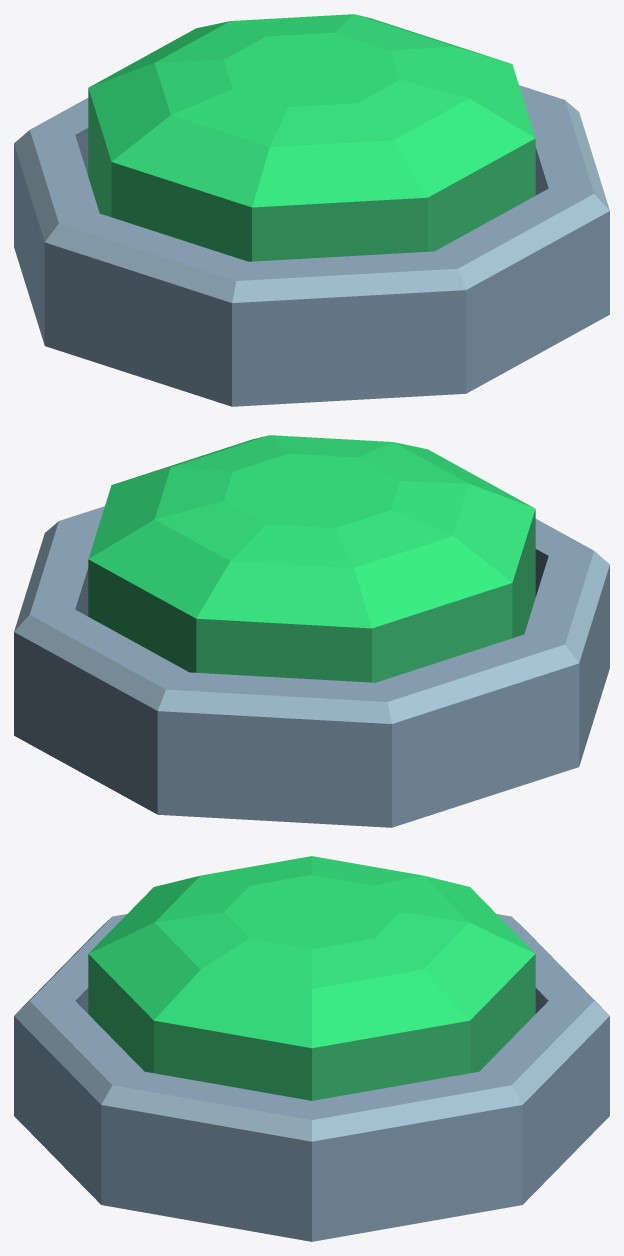
The model's file is greenbutton.glb.
3 views of the same model, one above another, from view 1: azimuth 30°, elevation 25°; view 2: azimuth 150°, elevation 25°; view 3: azimuth 270°, elevation 25° (orthographic). The views are drawn at different scales.
Visible parts, largest first — view 1: Base_Button, Button; view 2: Base_Button, Button; view 3: Base_Button, Button.
Boxes of the visible parts, x1=… form: Base_Button: x1=14, y1=85, x2=609, y2=406; Button: x1=88, y1=14, x2=535, y2=261; Base_Button: x1=14, y1=506, x2=609, y2=827; Button: x1=88, y1=435, x2=535, y2=682; Base_Button: x1=14, y1=914, x2=609, y2=1241; Button: x1=88, y1=856, x2=535, y2=1100.
Size of the model in its own units: 0.5393 by 0.2035 by 0.5393.
1 material, 1 textured.
